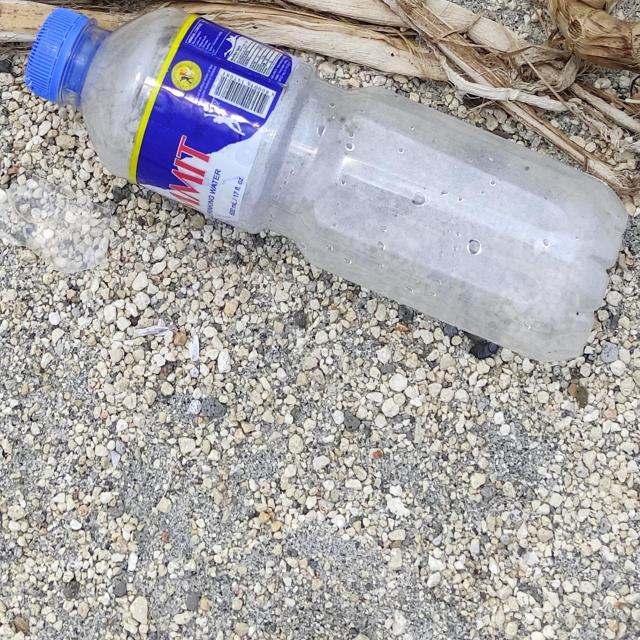plastic_waste: (22, 5, 633, 366)
